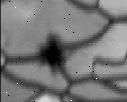good_void: (36, 30, 69, 75)
